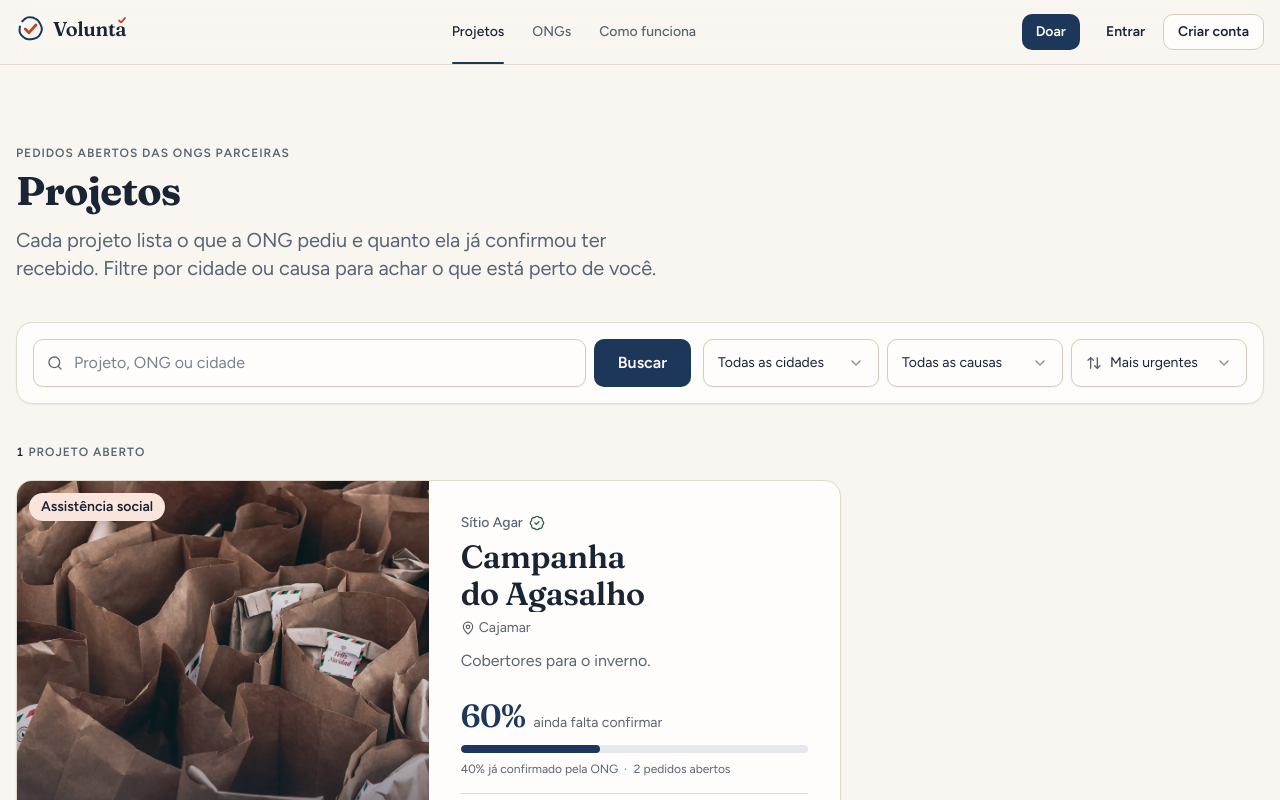
Scenario: ProjetosPage › manda o termo buscado para a RPC e oferece limpar quando não acha nada
Expected: the heading "Campanha do Agasalho" is shown, [461,537,645,613]
Type "fantasma" into the search field named "Buscar projetos" at (309, 363), box [33,339,586,387]
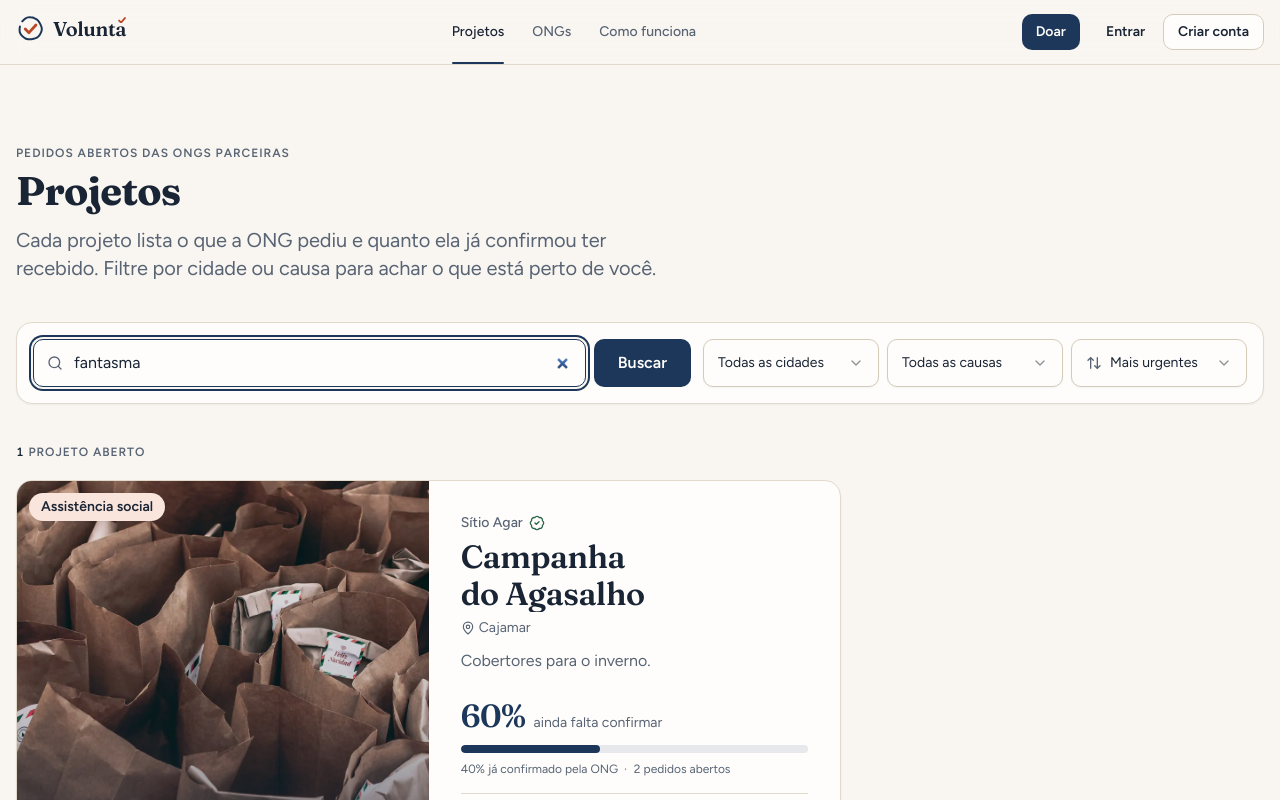
Click the button "Buscar" at (642, 363), box [594,339,691,387]
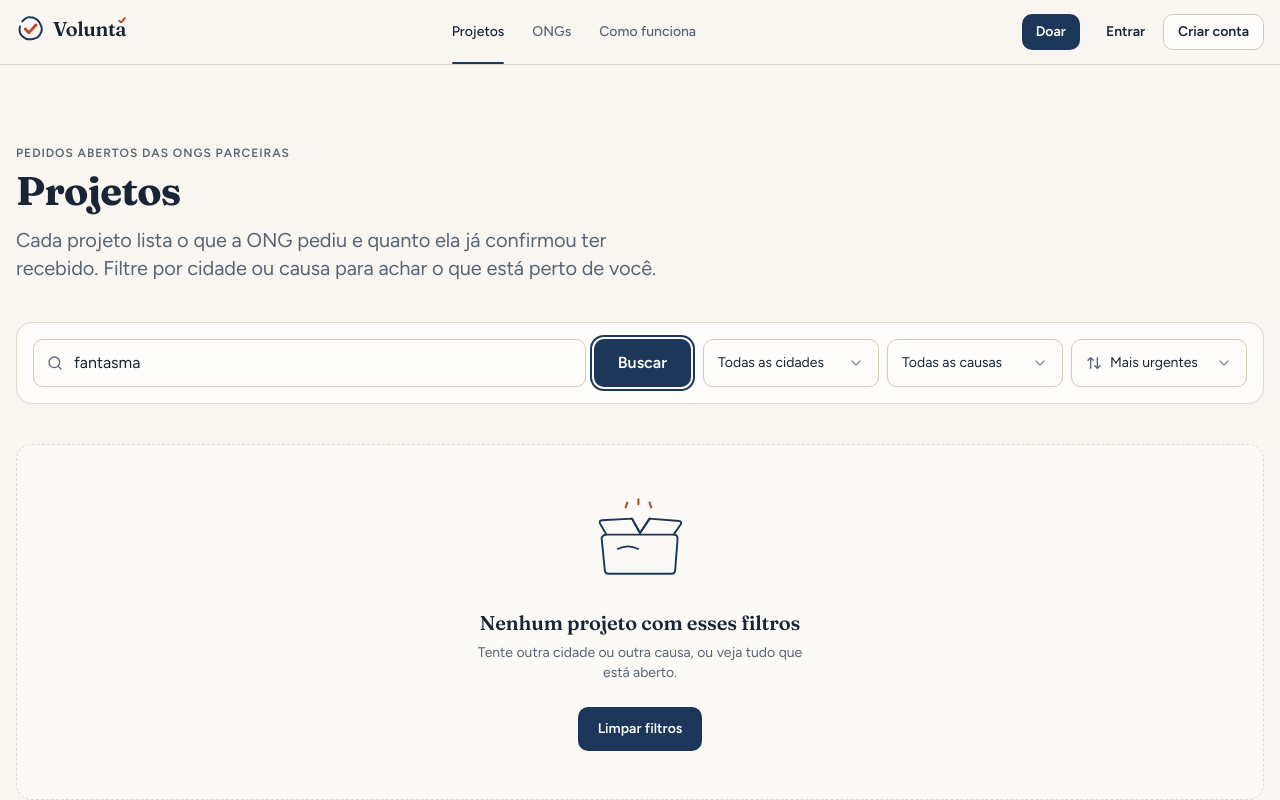
Expected: the text "Nenhum projeto com esses filtros" is shown, [480,609,800,637]
Expected: the button "Limpar filtros" is shown, [578,707,702,751]
